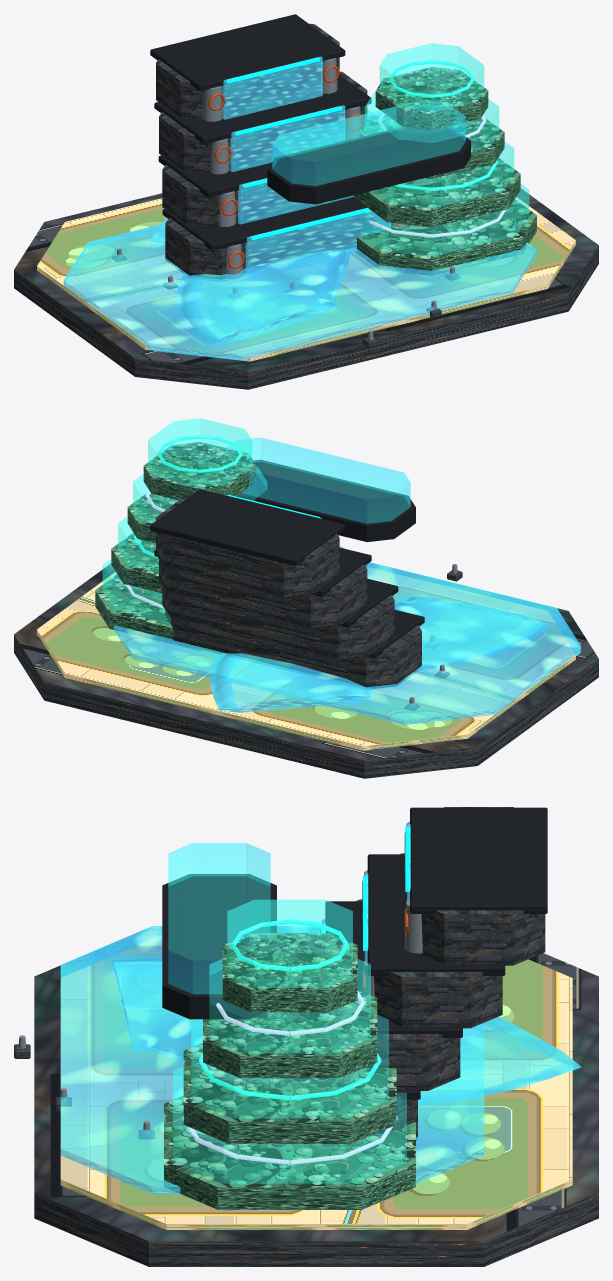
The model's file is interior_setpiece_02_r1_05.glb.
3 renders of one model, top to bottom at view 1: azimuth 30°, elevation 25°; view 2: azimuth 150°, elevation 25°; view 3: azimuth 270°, elevation 25°, orthographic. The views are drawn at different scales.
Visible parts, largest first — view 1: Setpiece02_C05_water_river, Setpiece02_C05_cliff_basalt, Setpiece02_C05_promenade_paving, Setpiece02_C05_gunmetal, Setpiece02_C05_biome_canopy, Setpiece02_C05_glass_emerald, Setpiece02_C05_glass_cyan, Setpiece02_C05_steel_machined, Setpiece02_C05_led_cyan, Setpiece02_C05_led_emerald, Setpiece02_C05_accent_orange, Setpiece02_C05_led_uv; view 2: Setpiece02_C05_cliff_basalt, Setpiece02_C05_promenade_paving, Setpiece02_C05_water_river, Setpiece02_C05_gunmetal, Setpiece02_C05_biome_canopy, Setpiece02_C05_glass_emerald, Setpiece02_C05_glass_cyan, Setpiece02_C05_led_emerald; view 3: Setpiece02_C05_promenade_paving, Setpiece02_C05_cliff_basalt, Setpiece02_C05_biome_canopy, Setpiece02_C05_water_river, Setpiece02_C05_glass_emerald, Setpiece02_C05_gunmetal, Setpiece02_C05_glass_cyan, Setpiece02_C05_led_emerald, Setpiece02_C05_led_uv, Setpiece02_C05_steel_machined, Setpiece02_C05_led_cyan.
Boxes of the visible parts, <box> form: Setpiece02_C05_water_river: <box>63,56,536,360</box>; Setpiece02_C05_cliff_basalt: <box>14,23,598,389</box>; Setpiece02_C05_promenade_paving: <box>37,197,575,361</box>; Setpiece02_C05_gunmetal: <box>150,14,470,250</box>; Setpiece02_C05_biome_canopy: <box>353,67,536,275</box>; Setpiece02_C05_glass_emerald: <box>362,43,529,256</box>; Setpiece02_C05_glass_cyan: <box>272,100,465,185</box>; Setpiece02_C05_steel_machined: <box>117,58,455,340</box>; Setpiece02_C05_led_cyan: <box>227,57,371,239</box>; Setpiece02_C05_led_emerald: <box>389,60,497,190</box>; Setpiece02_C05_accent_orange: <box>208,65,408,268</box>; Setpiece02_C05_led_uv: <box>367,112,506,237</box>; Setpiece02_C05_cliff_basalt: <box>14,498,598,778</box>; Setpiece02_C05_promenade_paving: <box>37,567,575,750</box>; Setpiece02_C05_water_river: <box>114,494,580,724</box>; Setpiece02_C05_gunmetal: <box>150,460,424,658</box>; Setpiece02_C05_biome_canopy: <box>95,442,256,650</box>; Setpiece02_C05_glass_emerald: <box>102,418,266,624</box>; Setpiece02_C05_glass_cyan: <box>220,437,410,523</box>; Setpiece02_C05_led_emerald: <box>134,435,242,558</box>; Setpiece02_C05_promenade_paving: <box>60,936,572,1229</box>; Setpiece02_C05_cliff_basalt: <box>14,807,598,1266</box>; Setpiece02_C05_biome_canopy: <box>164,933,415,1209</box>; Setpiece02_C05_water_river: <box>60,824,581,1194</box>; Setpiece02_C05_glass_emerald: <box>173,899,406,1183</box>; Setpiece02_C05_gunmetal: <box>162,807,547,1099</box>; Setpiece02_C05_glass_cyan: <box>168,843,270,993</box>; Setpiece02_C05_led_emerald: <box>199,919,381,1100</box>; Setpiece02_C05_led_uv: <box>182,990,397,1164</box>; Setpiece02_C05_steel_machined: <box>18,821,422,1133</box>; Setpiece02_C05_led_cyan: <box>320,826,410,950</box>.
Bounding box in the file's own units: 42 × 17.55 × 33.15.
Materials: 14 (14 with a texture image).
